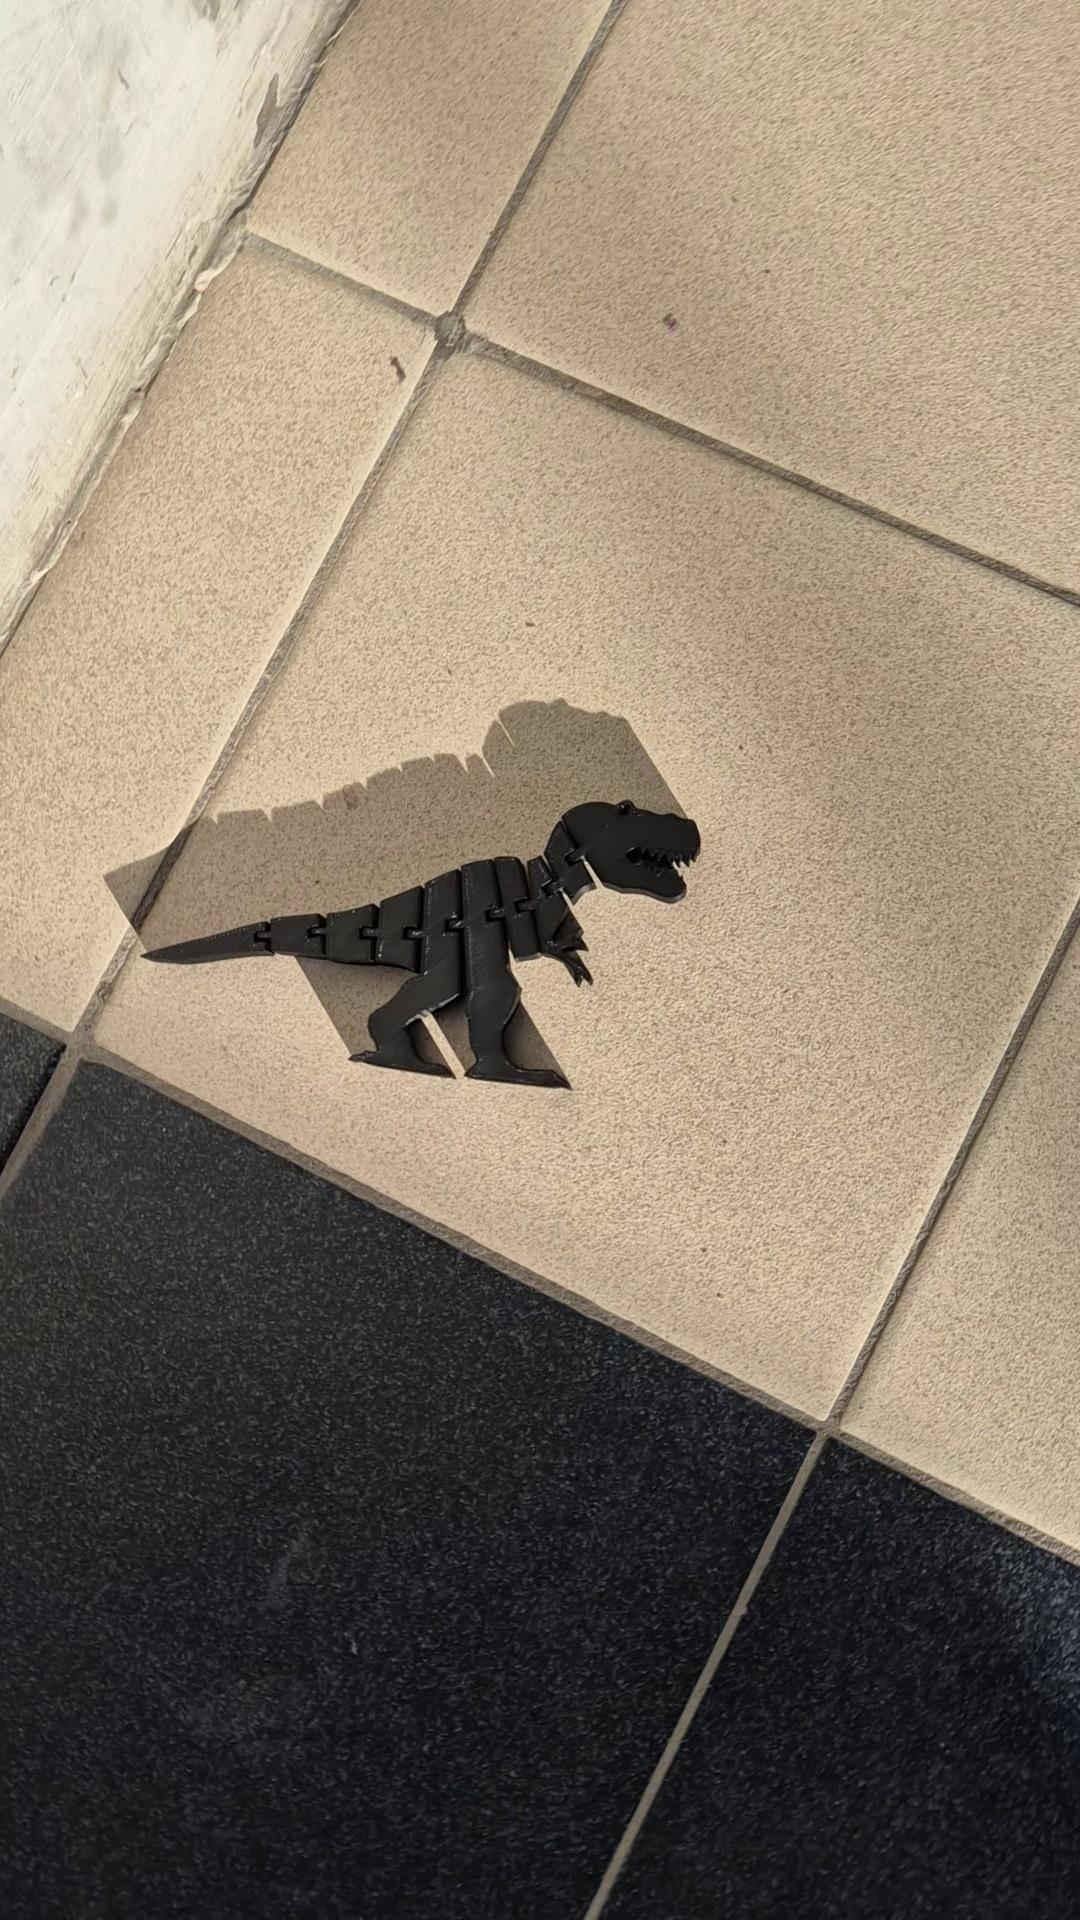dinosaur: (137, 796, 703, 1096)
